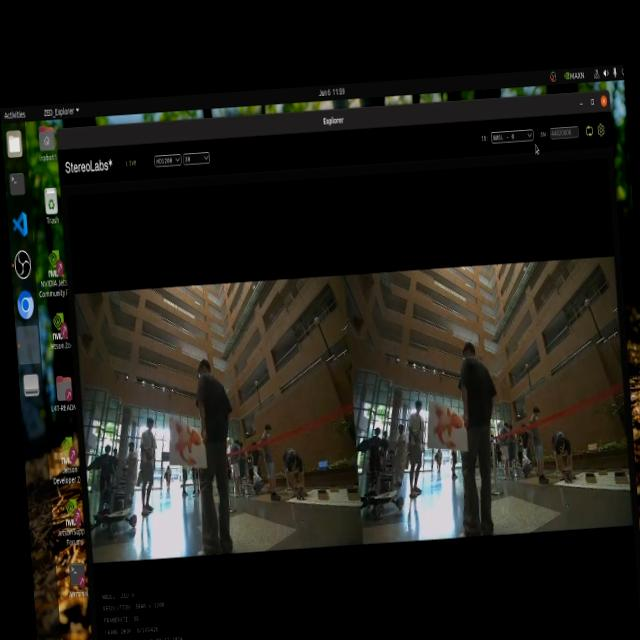red: (426, 406, 468, 453), (166, 418, 202, 466)
